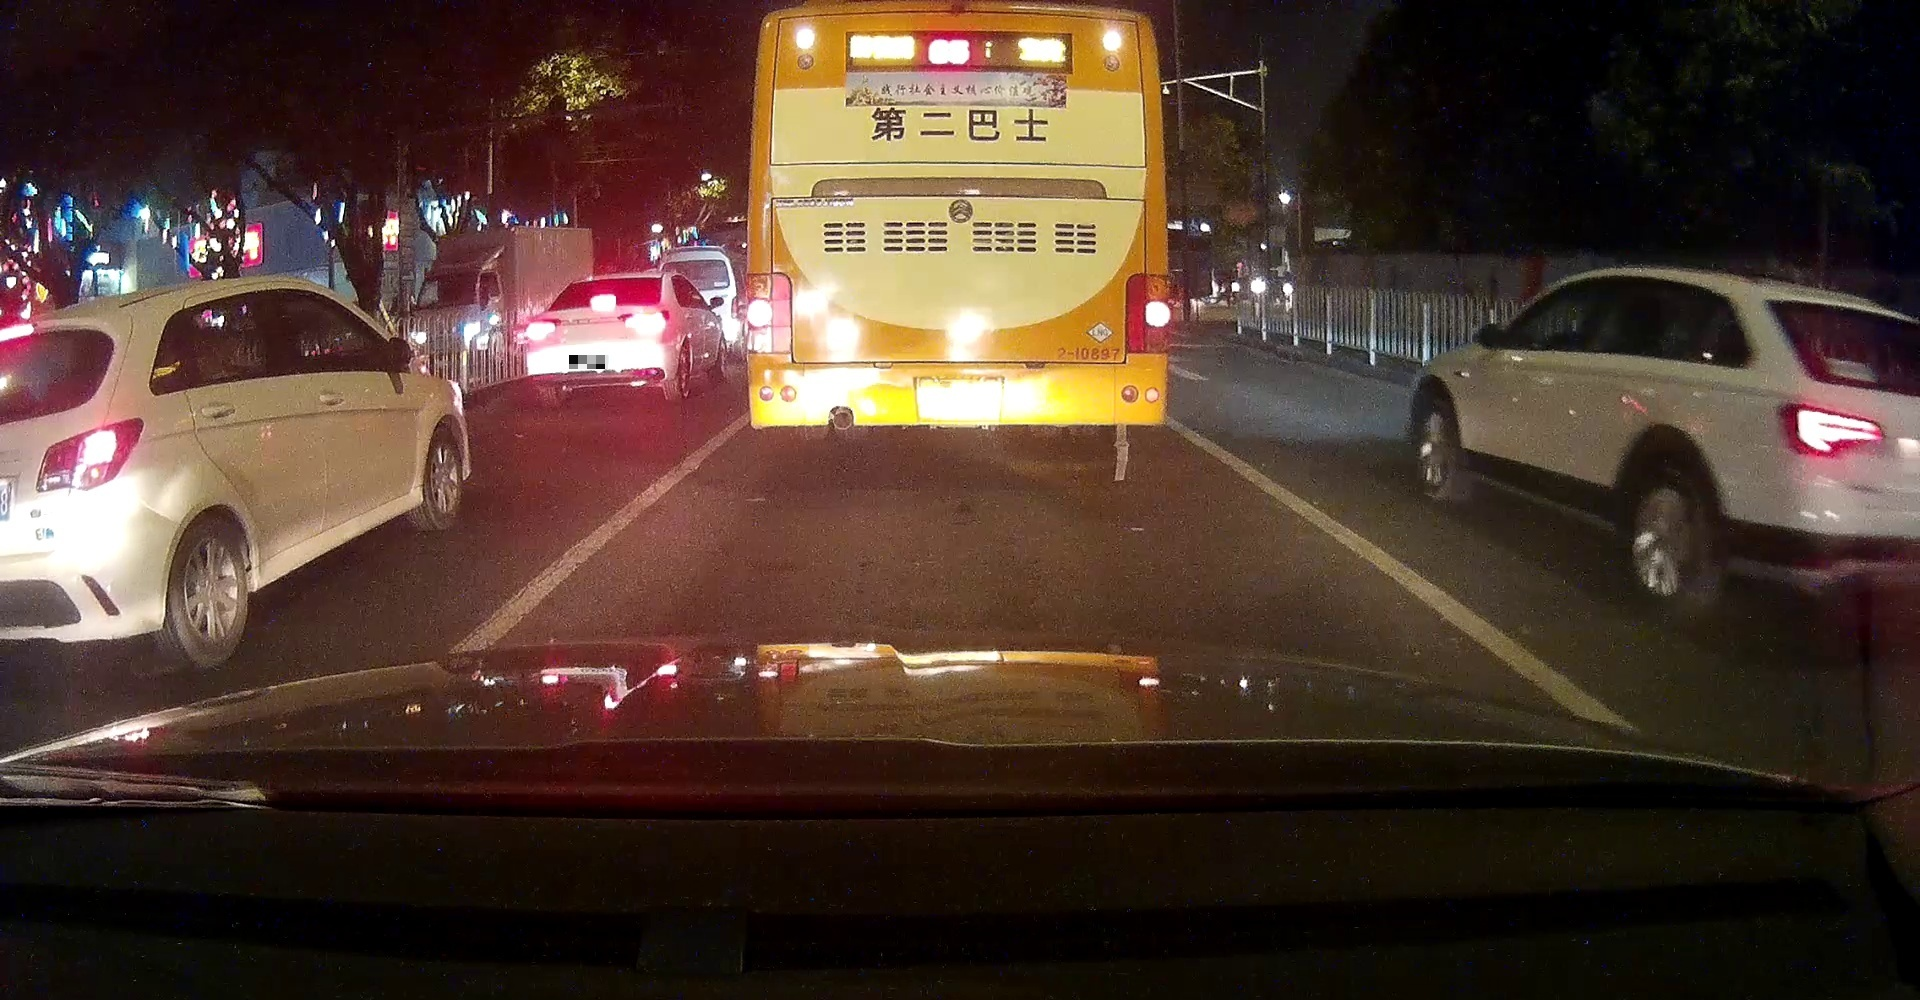L_light: (745, 272, 792, 355), (524, 319, 563, 343)
R_light: (1124, 272, 1170, 354), (617, 308, 669, 335)
T_light: (924, 11, 977, 24), (590, 294, 616, 311)
night-brake: (524, 270, 674, 407)
night-no: (745, 0, 1170, 458)
plate_1: (569, 355, 608, 369)
